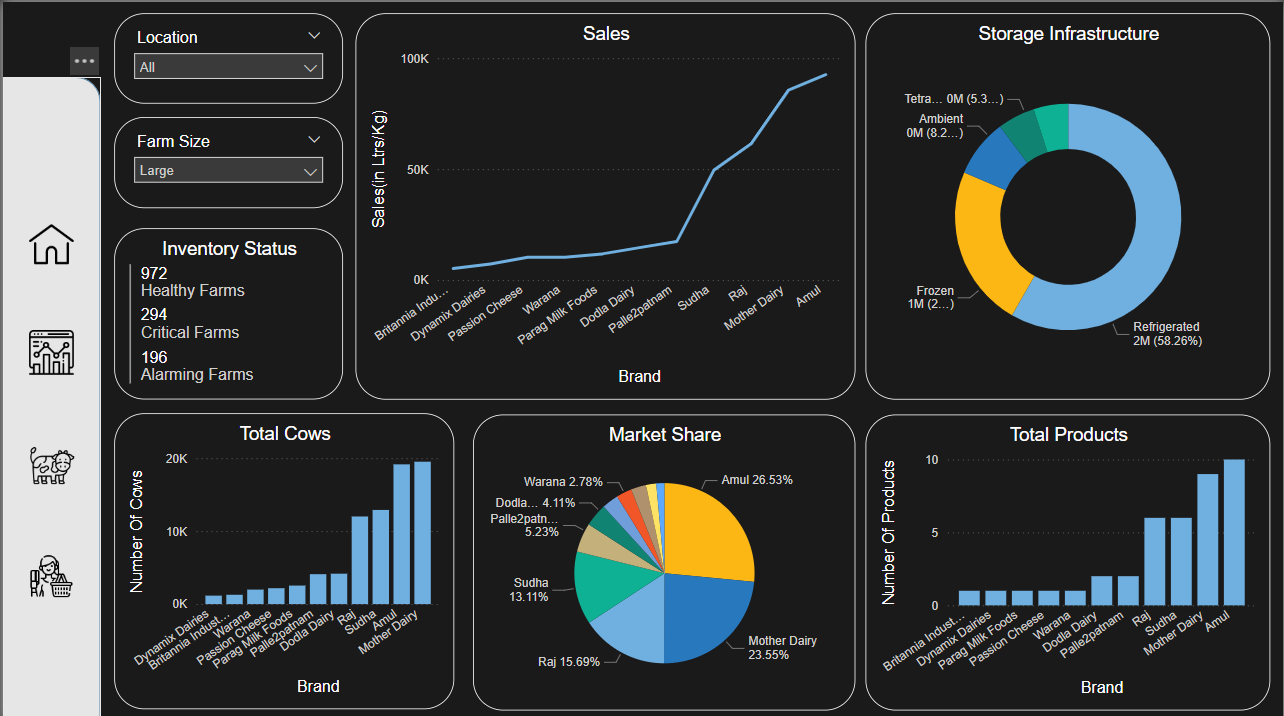

This screenshot's page, from the dashboard's own definition file:
{"tool":"powerbi","page":{"name":"Production Stats","canvas":[1280,720],"ordinal":2},"visuals":[{"type":"pieChart","title":"Market Share","fields":{"Category":["Dairy_Data.Brand"],"Y":["Sum(Dairy_Data.Approx. Total Revenue(INR))"]},"box":[470,412.5,382.5,296.2],"z":0},{"type":"columnChart","title":"Total Products","fields":{"Category":["BrandSummary.Brand"],"Y":["Count(Dairy_Data.Product Name)"]},"box":[862.5,412.5,405,296.2],"z":1000},{"type":"slicer","fields":{"Values":["Dairy_Data.Location"]},"box":[111.2,11.2,228.8,90],"z":2000},{"type":"columnChart","title":"Sales","fields":{"Category":["Dairy_Data.Brand"],"Y":["Sum(Dairy_Data.Quantity Sold (liters/kg))"]},"box":[352.5,11.2,500,386.2],"z":3000},{"type":"multiRowCard","title":"Inventory Status","fields":{"Values":["Dairy_Data.Healthy Farms","Dairy_Data.Critical Farms","Dairy_Data.Alarming Farms"]},"box":[111.2,226.2,228.8,171.2],"z":4000},{"type":"donutChart","title":"Storage Infrastructure","fields":{"Category":["Dairy_Data.Storage Condition"],"Y":["Sum(Dairy_Data.Index)"]},"box":[862.5,11.2,405,386.2],"z":5000},{"type":"slicer","fields":{"Values":["Dairy_Data.Farm Size"]},"box":[111.2,115,228.8,91.2],"z":6000},{"type":"columnChart","title":"Total Cows","fields":{"Category":["Dairy_Data.Brand"],"Y":["Sum(Dairy_Data.Number of Cows)"]},"box":[111.2,411.2,340,296.2],"z":7000},{"type":"shape","box":[0,75,97.5,645],"z":8000},{"type":"image","box":[21.2,214.8,54.8,54.8],"z":9000},{"type":"image","box":[21.3,319.8,54.7,61.3],"z":10000},{"type":"image","box":[23.1,431.4,53.8,65],"z":11000},{"type":"image","box":[21.3,546.7,54.7,55.3],"z":12000}]}

Visuals, with their boxes on the page's 1280x720 design canvas (x1, y1, x2, y2). These are canvas units, not pixel positions in the 1284x716 screenshot, which may show the page scaled, cropped or inside an application window:
"Market Share" pieChart: 470 412 852 709
"Total Products" columnChart: 862 412 1268 709
slicer - Dairy_Data.Location: 111 11 340 101
"Sales" columnChart: 352 11 852 397
"Inventory Status" multiRowCard: 111 226 340 397
"Storage Infrastructure" donutChart: 862 11 1268 397
slicer - Dairy_Data.Farm Size: 111 115 340 206
"Total Cows" columnChart: 111 411 451 707
shape: 0 75 98 720
image: 21 215 76 270
image: 21 320 76 381
image: 23 431 77 496
image: 21 547 76 602
